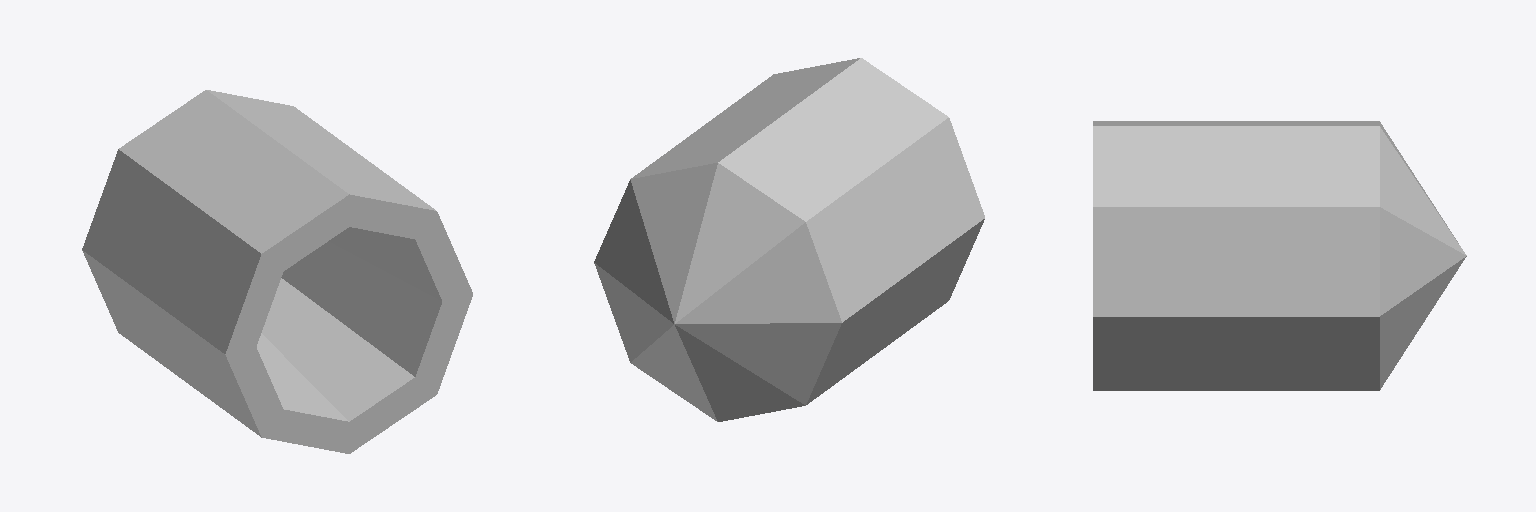
The model's file is Nozzle.obj.
The picture shows the model from 3 angles: view 1: azimuth 30°, elevation 25°; view 2: azimuth 150°, elevation 25°; view 3: azimuth 270°, elevation 25°; orthographic projection.
Visible parts, largest first — view 1: Nozzle; view 2: Nozzle; view 3: Nozzle.
Boxes of the visible parts, x1=… form: Nozzle: x1=82, y1=90, x2=472, y2=453; Nozzle: x1=594, y1=58, x2=984, y2=421; Nozzle: x1=1093, y1=121, x2=1466, y2=390.
Bounding box in the file's own units: 0.3947 × 0.3947 × 0.5145.